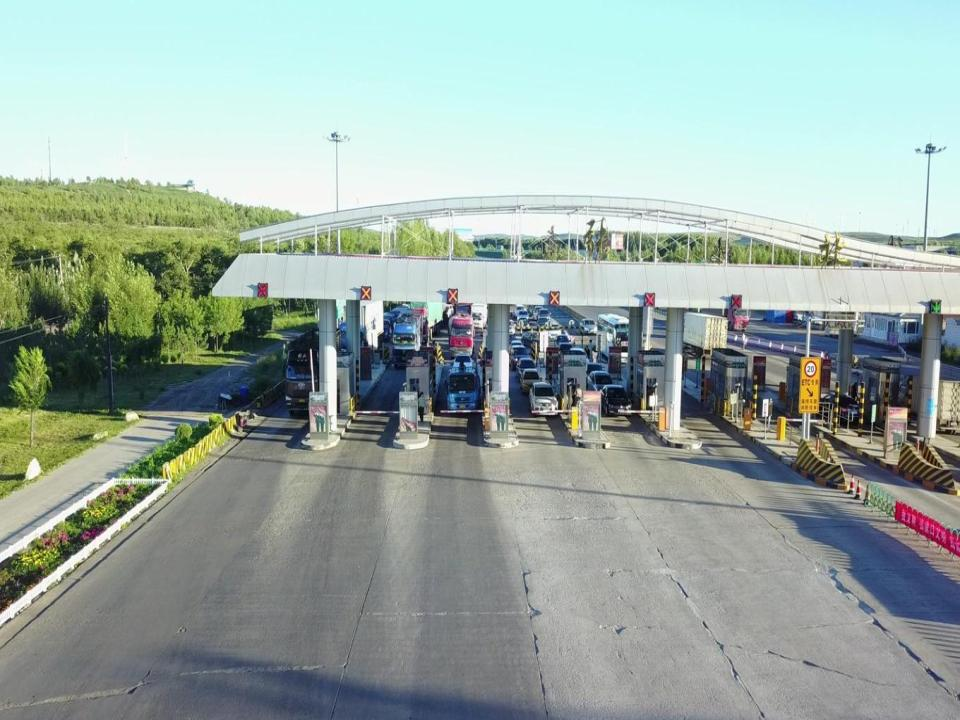bus: (595, 313, 636, 351)
car: (820, 388, 864, 424), (599, 382, 632, 417), (527, 381, 559, 416), (587, 370, 612, 394), (509, 345, 530, 372), (521, 367, 542, 393), (516, 356, 537, 382), (568, 346, 592, 366), (581, 360, 603, 379), (452, 352, 473, 370), (579, 317, 598, 335)
truck: (283, 323, 346, 420), (670, 311, 728, 354), (340, 308, 376, 369), (445, 362, 481, 410), (390, 316, 422, 364), (447, 308, 476, 358), (409, 300, 444, 340), (694, 307, 750, 331)
